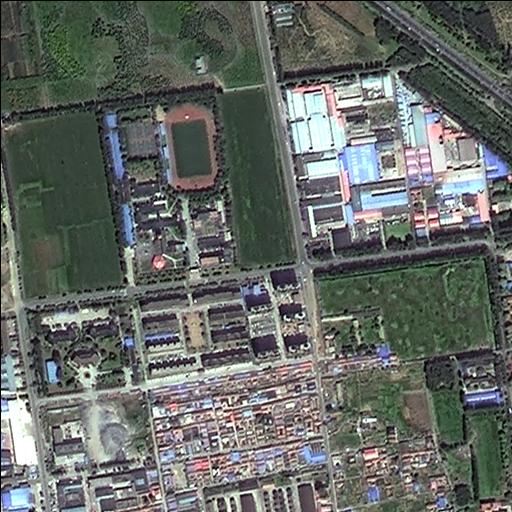school: (95, 91, 238, 291)
